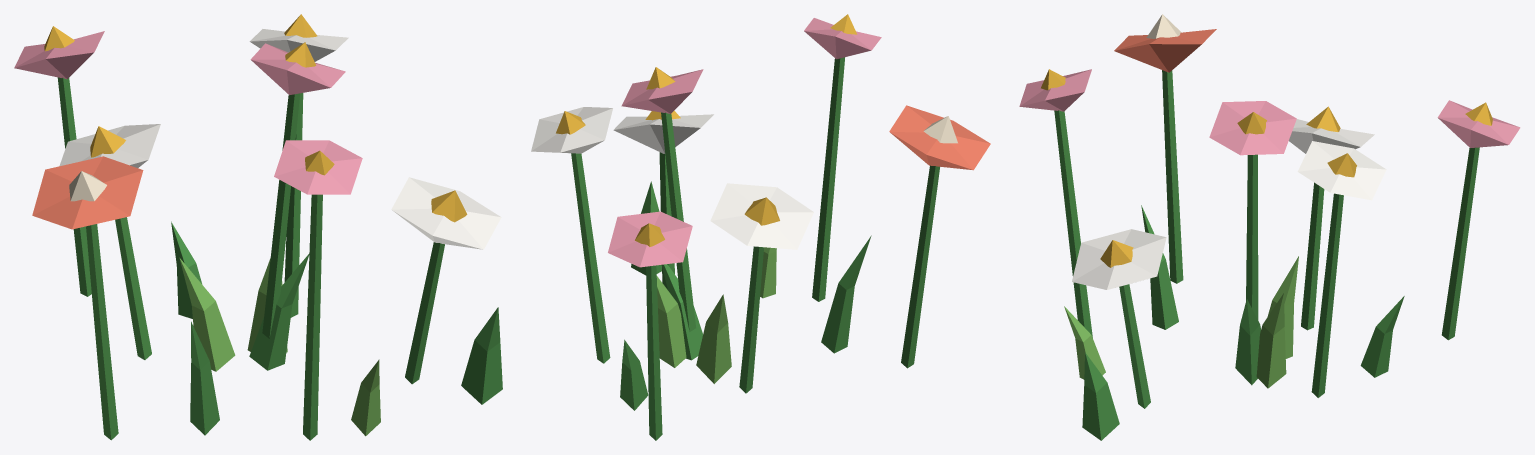
Rendered from flower_patch_a.glb.
The picture shows the model from 3 angles, left to right: view 1: azimuth 30°, elevation 25°; view 2: azimuth 150°, elevation 25°; view 3: azimuth 270°, elevation 25°; orthographic projection. The views are drawn at different scales.
Visible parts, largest first — view 1: flower_patch_a; view 2: flower_patch_a; view 3: flower_patch_a.
Boxes of the visible parts, box(x1,y1,x2,y2) form: flower_patch_a: box(14, 14, 502, 440); flower_patch_a: box(531, 14, 990, 440); flower_patch_a: box(1019, 14, 1520, 440).
Bounding box in the file's own units: 0.699 × 0.4937 × 0.7926.
